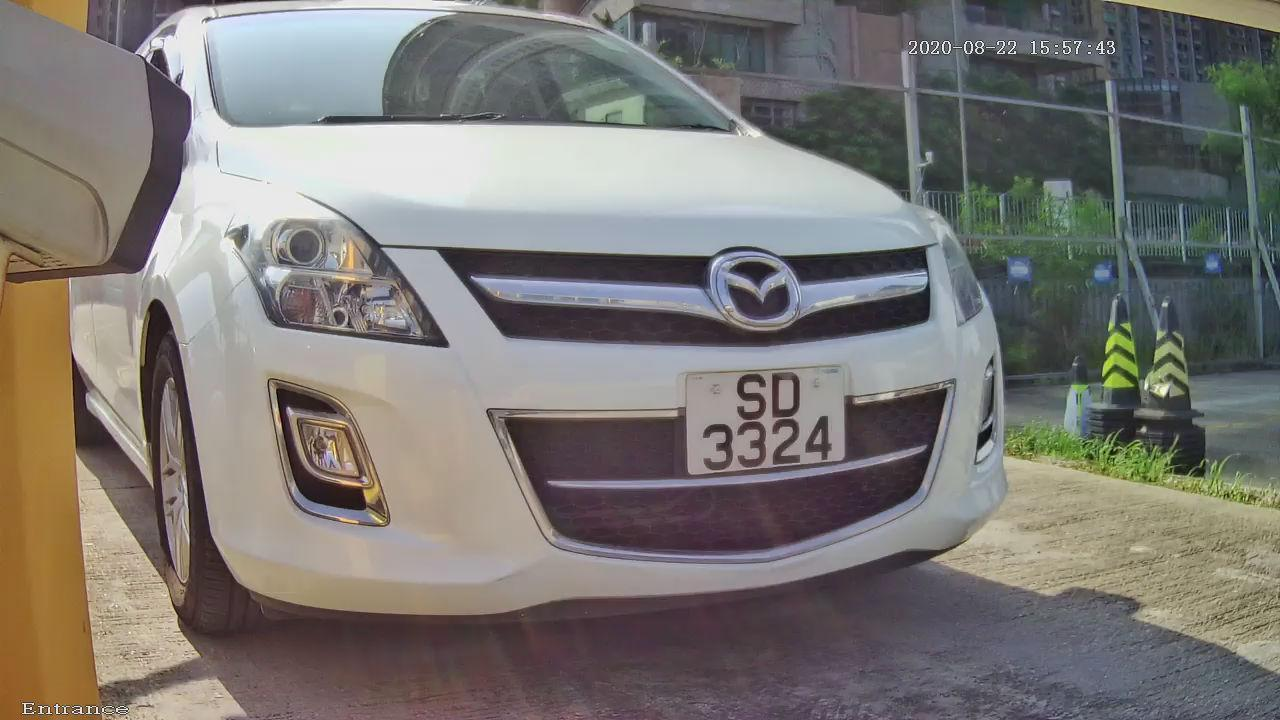Car: (63, 10, 1081, 685)
License Plate: (663, 354, 863, 496)
